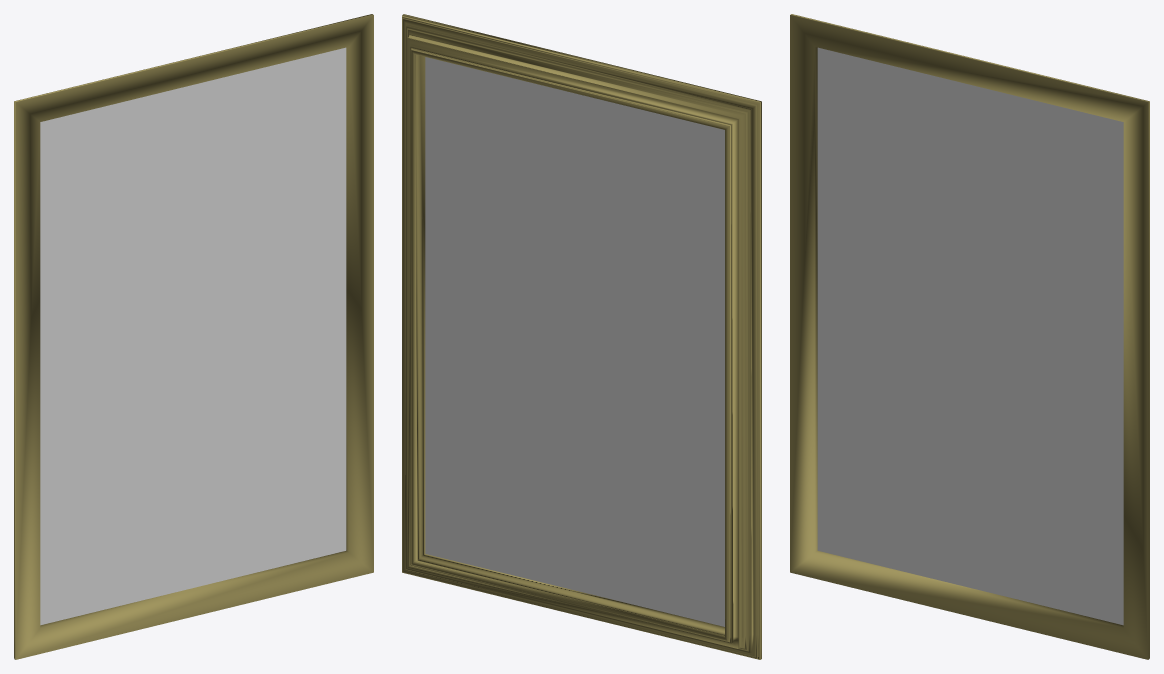
The model's file is frame.fbx.
3 views of the same model, side by side, from view 1: azimuth 30°, elevation 25°; view 2: azimuth 150°, elevation 25°; view 3: azimuth 330°, elevation 25° (orthographic).
Visible parts, largest first — view 1: Plane, Frame; view 2: Plane, Frame; view 3: Plane, Frame.
Boxes of the visible parts, box(x1,y1,x2,y2) form: Plane: box(40, 47, 346, 625); Frame: box(14, 14, 373, 659); Plane: box(425, 57, 724, 626); Frame: box(402, 14, 761, 659); Plane: box(817, 47, 1123, 625); Frame: box(790, 14, 1149, 659).
Bounding box in the file's own units: 97.42 × 145 × 6.24.
